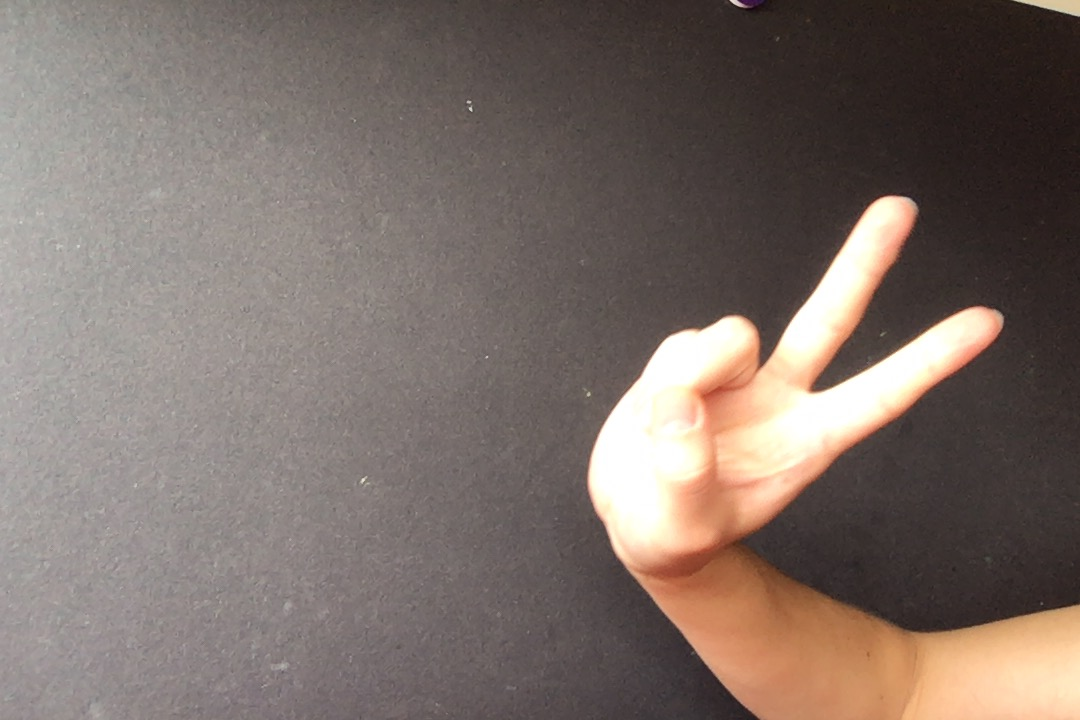peacesign: (580, 193, 1004, 580)
